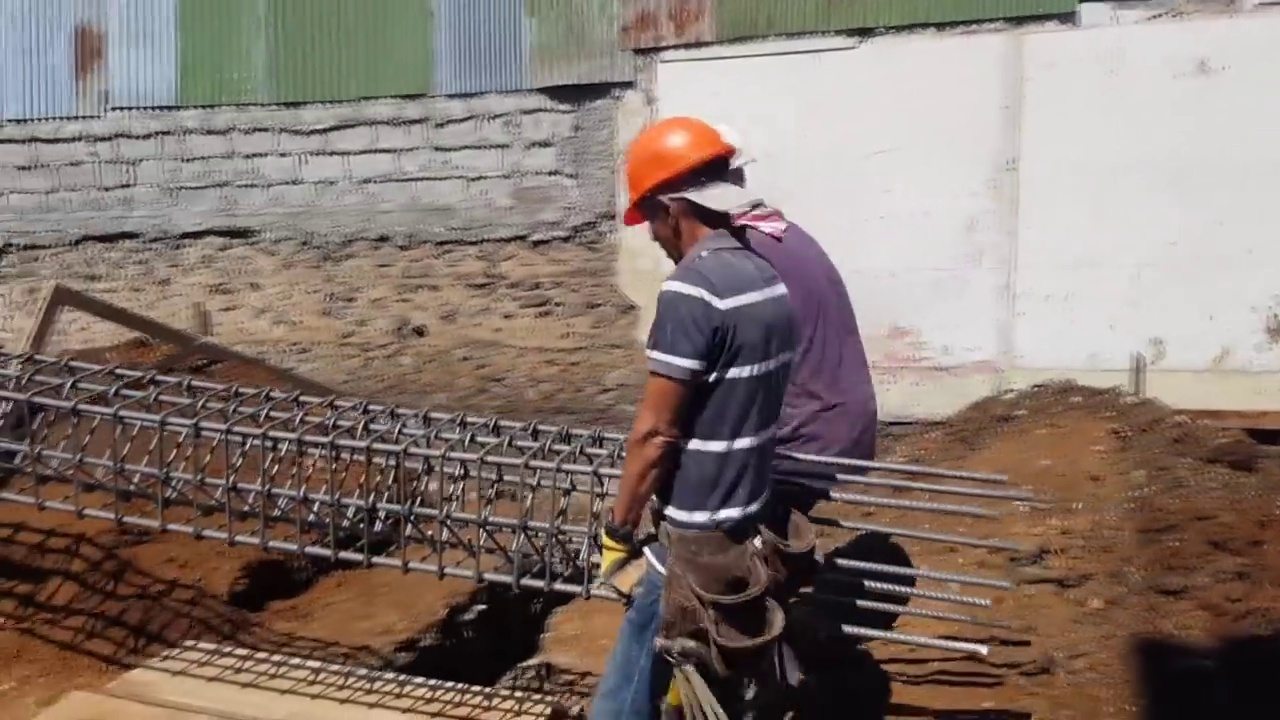helmet: (623, 120, 737, 222)
helmet-on: (620, 122, 739, 272)
person: (566, 113, 784, 719), (729, 166, 888, 602)
